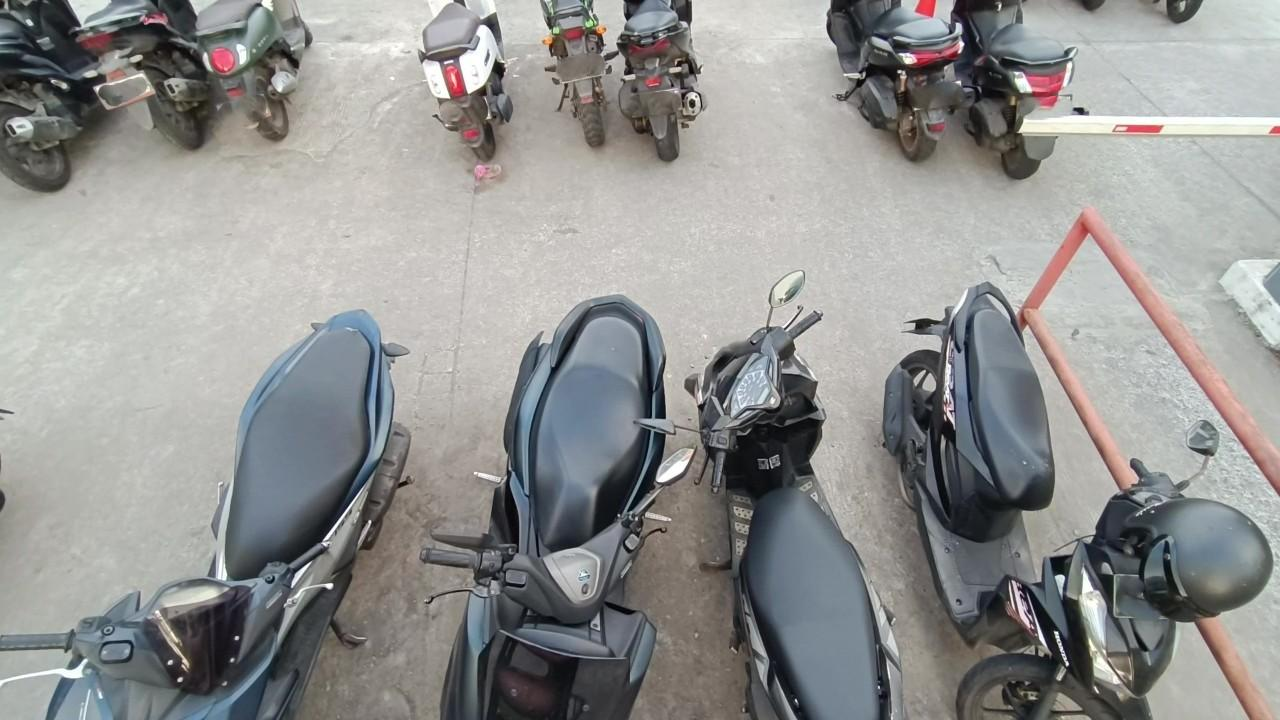motorcycle: (881, 281, 1272, 720), (0, 307, 412, 720), (423, 291, 694, 720), (641, 273, 901, 720), (951, 0, 1076, 180), (826, 0, 962, 164), (0, 0, 111, 190), (79, 0, 219, 150), (424, 0, 517, 184), (197, 0, 313, 143), (620, 0, 708, 164), (537, 0, 621, 153), (1144, 0, 1208, 28)
